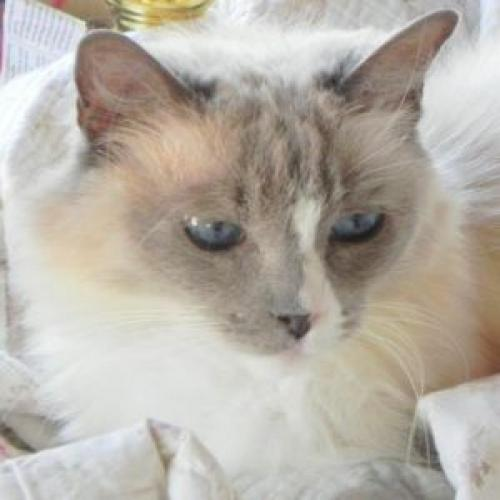ragdoll: (53, 7, 473, 376)
